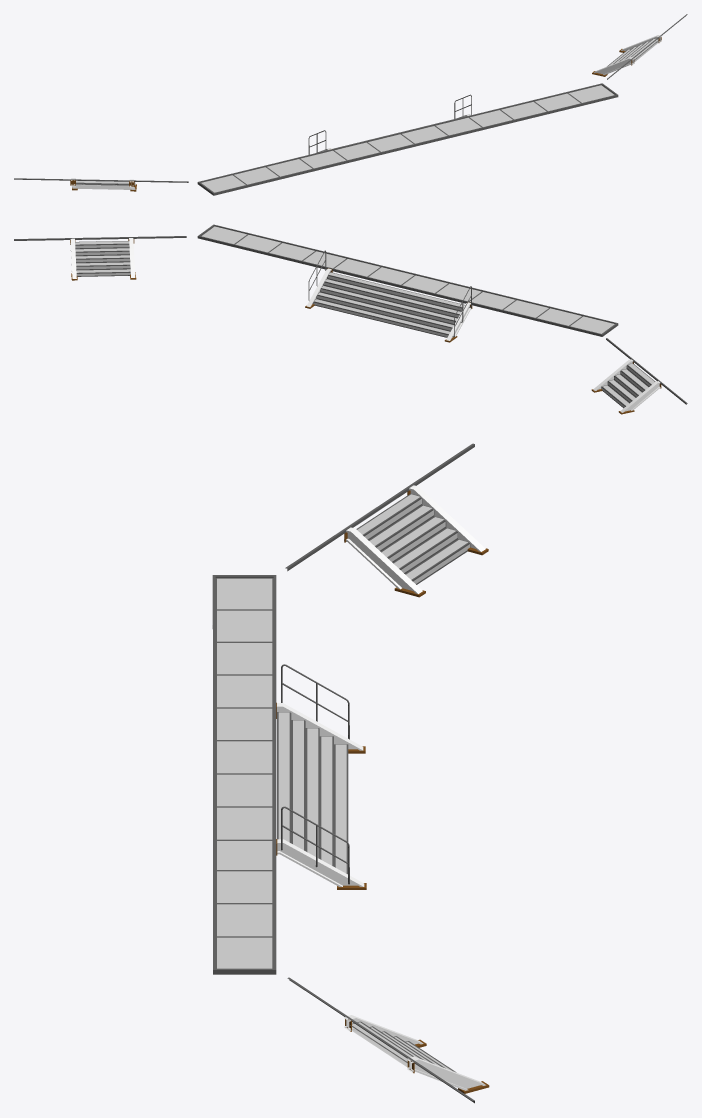
Rendered from SM_H_Building_Tide_Hall_06_ATLAS.fbx.
3 views of the same model, one above another, from view 1: azimuth 30°, elevation 25°; view 2: azimuth 150°, elevation 25°; view 3: azimuth 270°, elevation 25° (orthographic). The views are drawn at different scales.
Visible parts, largest first — view 1: SM_H_Building_Tide_Hall_06_ATLAS; view 2: SM_H_Building_Tide_Hall_06_ATLAS; view 3: SM_H_Building_Tide_Hall_06_ATLAS.
Part boxes in pixels (x1,y1,x2,y2): SM_H_Building_Tide_Hall_06_ATLAS: (14, 14, 687, 195); SM_H_Building_Tide_Hall_06_ATLAS: (14, 224, 687, 414); SM_H_Building_Tide_Hall_06_ATLAS: (212, 443, 489, 1103).
Size of the model in its own units: 2869 by 509 by 171.
